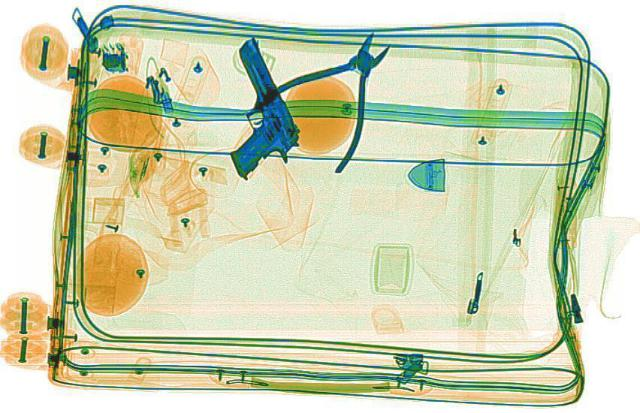Gun: (176, 35, 318, 178)
Pliers: (222, 17, 444, 173)
